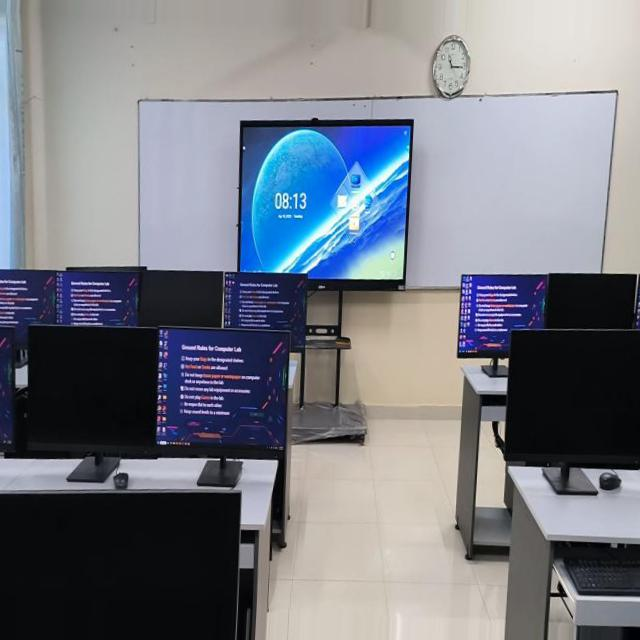Chair: (27, 406, 43, 479)
Cpu: (255, 592, 269, 639)
Keyboard: (567, 565, 640, 604)
Monitor: (0, 511, 254, 639), (505, 316, 640, 497), (39, 337, 172, 506), (164, 334, 294, 505), (455, 261, 537, 354), (225, 271, 307, 355), (0, 280, 66, 369), (538, 256, 625, 318), (144, 273, 225, 334), (63, 278, 144, 336), (0, 342, 29, 479), (625, 255, 640, 315), (71, 270, 150, 279)
Mouse: (599, 470, 620, 490), (128, 494, 142, 511)
